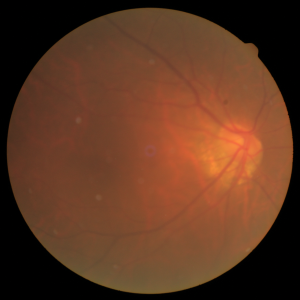cataract: (61, 90, 276, 207)
